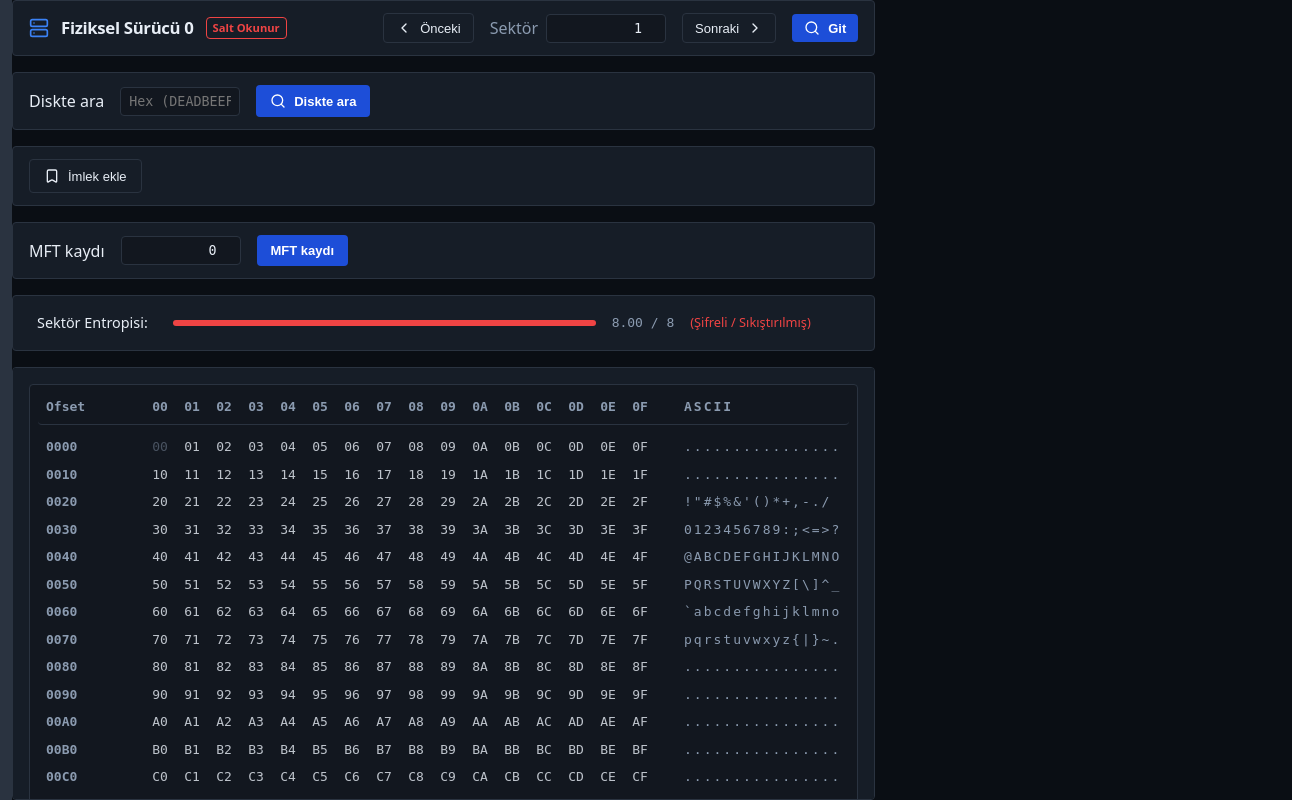
it: HexEditor hex search › shows unread when native reports a skipped window
In the field with test id "hex-search-query": (180, 101) [120,86,240,116], type "00"
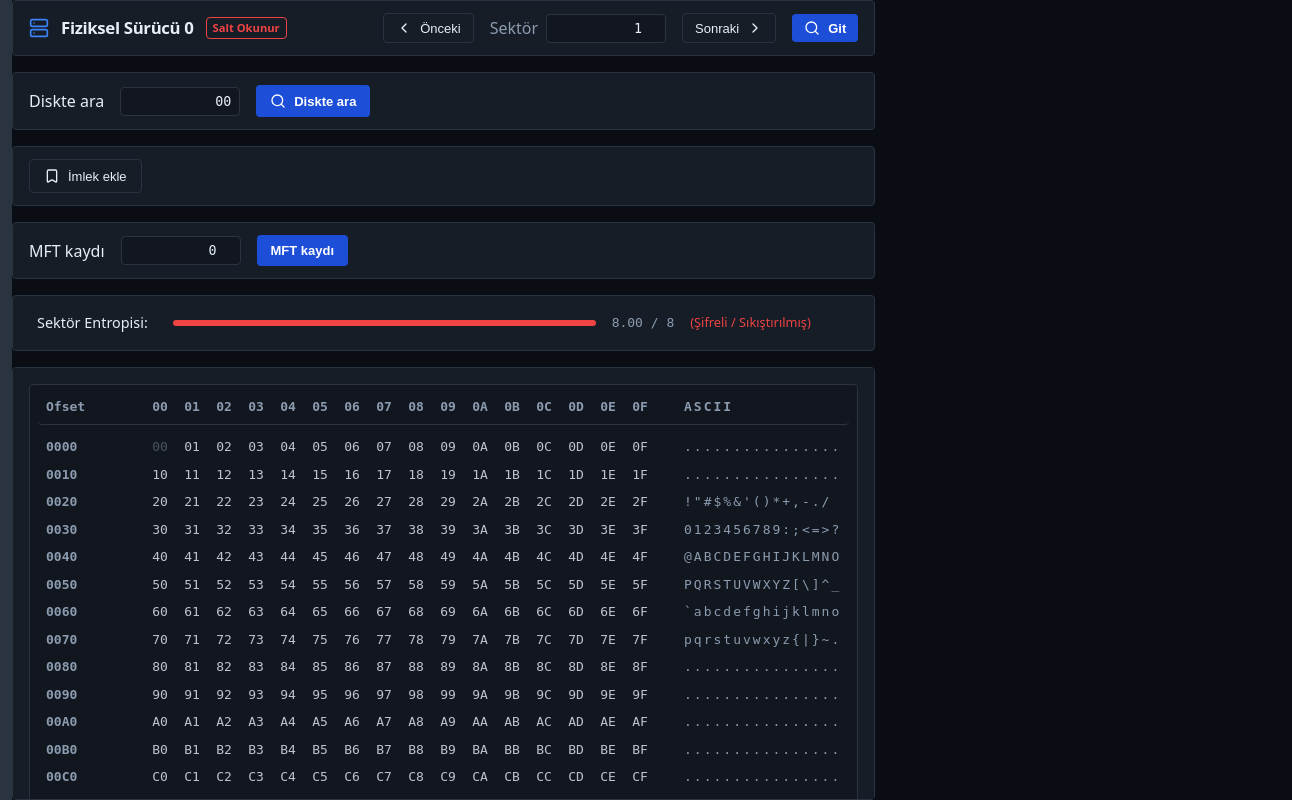
Click the button with test id "hex-search-go": (313, 101) [256,85,370,117]
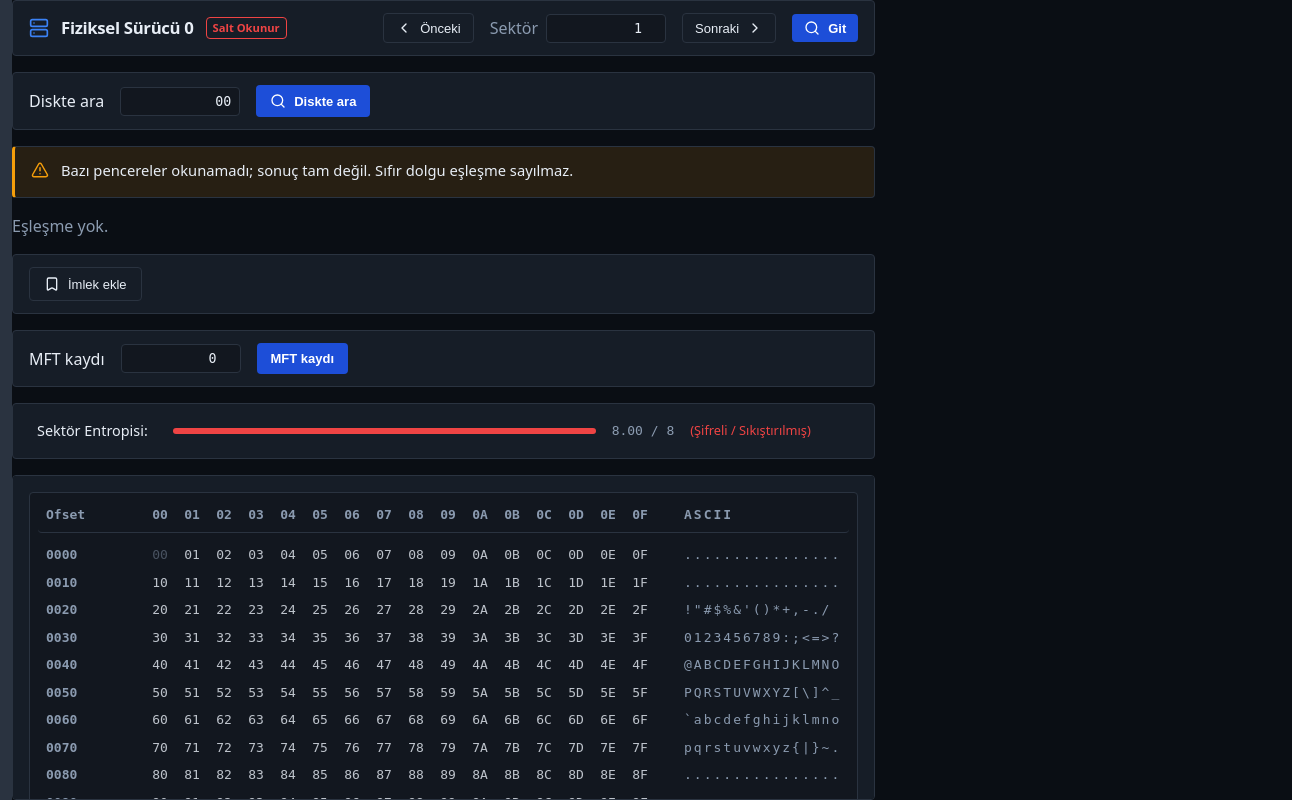
Expected: the message "Bazı pencereler okunamadı; sonuç tam değil. Sıfır dolgu eşleşme sayılmaz." is shown, [12,146,875,198]
